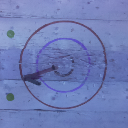Axe Tip: (28, 75, 40, 78)
